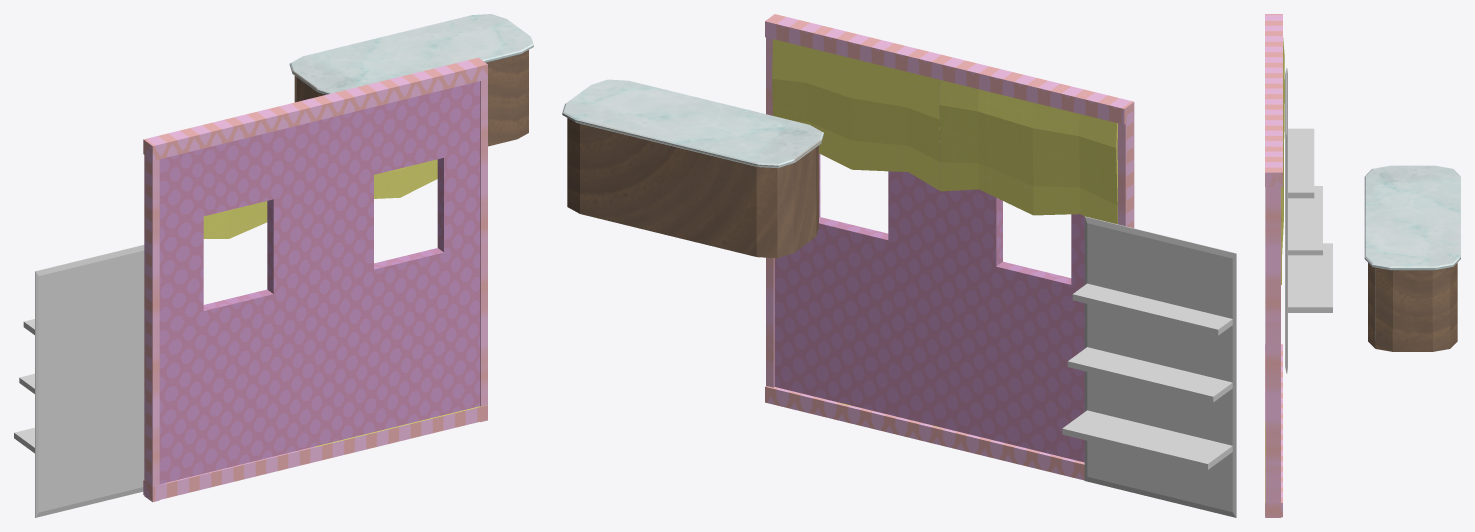
File: kitchen.fbx
3 views of the same model, side by side, from view 1: azimuth 30°, elevation 25°; view 2: azimuth 150°, elevation 25°; view 3: azimuth 270°, elevation 25° (orthographic). The views are drawn at different scales.
Parts seen in each view (by area): view 1: Wall, Cube.002, Cube.010; view 2: Wall, Cube.002, Cube.010; view 3: Cube.010, Wall, Cube.002.
Part boxes in pixels (x1,y1,x2,y2): Wall: (143,57,487,502); Cube.002: (14,245,144,517); Cube.010: (289,14,533,146); Wall: (765,14,1134,480); Cube.002: (1062,216,1236,517); Cube.010: (562,79,823,258); Cube.010: (1364,165,1460,351); Wall: (1265,14,1284,517); Cube.002: (1285,67,1332,373).
Size of the model in its own units: 7802 by 4834 by 2485.
